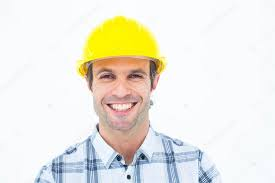Person_wearing_helmet: (76, 10, 166, 88)
